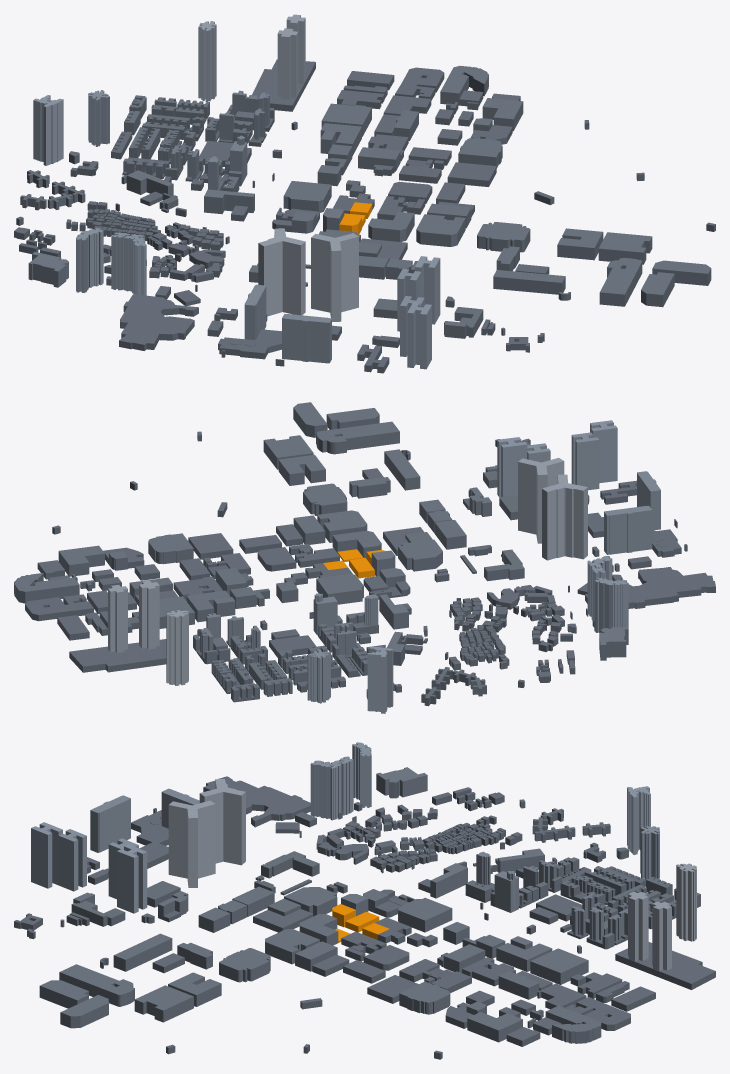
The model's file is buildings.glb.
3 renders of one model, top to bottom at view 1: azimuth 30°, elevation 25°; view 2: azimuth 150°, elevation 25°; view 3: azimuth 270°, elevation 25°, orthographic. The views are drawn at different scales.
Parts seen in each view (by area): view 1: osm_buildings, itech_target; view 2: osm_buildings, itech_target; view 3: osm_buildings, itech_target.
Boxes of the visible parts, box(x1,y1,x2,y2) form: osm_buildings: box(14, 14, 715, 373); itech_target: box(339, 202, 372, 234); osm_buildings: box(14, 402, 715, 713); itech_target: box(323, 549, 385, 578); osm_buildings: box(14, 742, 715, 1059); itech_target: box(332, 904, 389, 942).
Size of the model in its own units: 954 by 112 by 1021.
